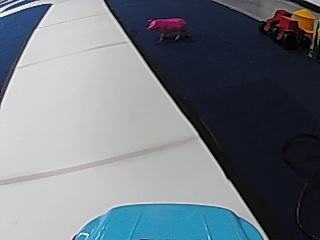pig: (143, 14, 189, 43)
